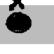not correct: (5, 0, 35, 36)
